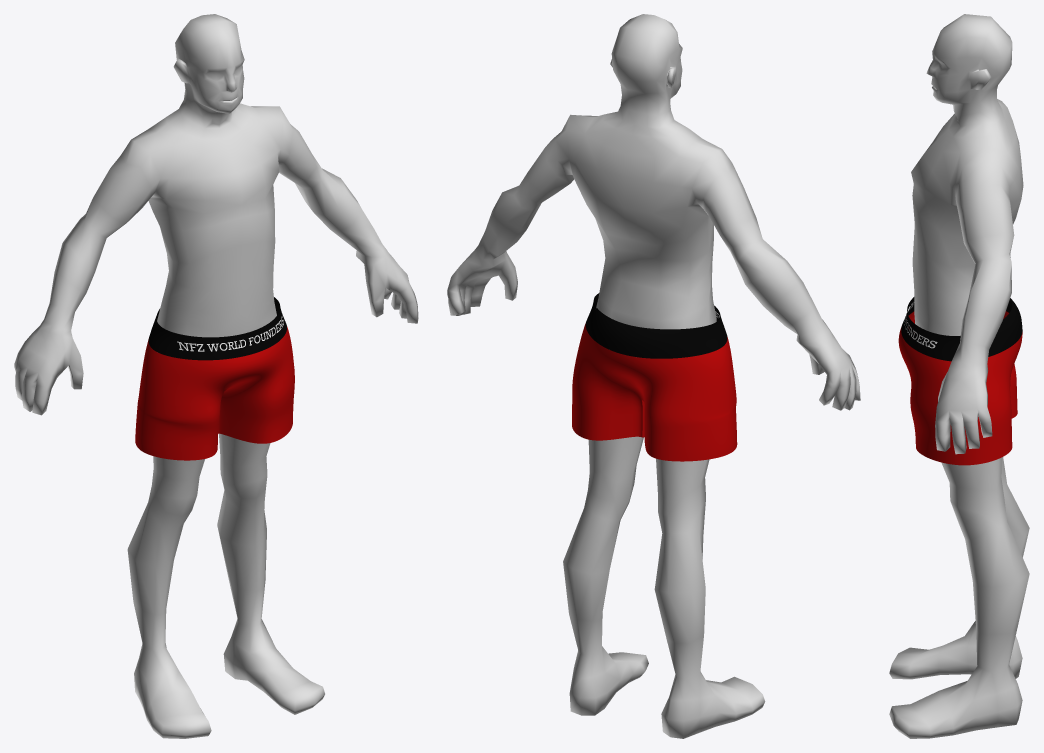
The model's file is defaultAvatar-NfzFirstEditionFoundersUndies.glb.
The picture shows the model from 3 angles, left to right: view 1: azimuth 30°, elevation 25°; view 2: azimuth 150°, elevation 25°; view 3: azimuth 270°, elevation 25°; orthographic projection. The views are drawn at different scales.
Parts seen in each view (by area): view 1: Low_Poly_Characte_000, object 1, object 2; view 2: Low_Poly_Characte_000, object 1, object 2; view 3: Low_Poly_Characte_000, object 1, object 2.
Boxes of the visible parts, x1=… form: Low_Poly_Characte_000: x1=14, y1=14, x2=418, y2=738; object 1: x1=135, y1=326, x2=294, y2=460; object 2: x1=148, y1=297, x2=286, y2=360; Low_Poly_Characte_000: x1=447, y1=14, x2=860, y2=738; object 1: x1=572, y1=323, x2=737, y2=461; object 2: x1=585, y1=293, x2=727, y2=358; Low_Poly_Characte_000: x1=889, y1=14, x2=1029, y2=738; object 1: x1=898, y1=311, x2=1022, y2=465; object 2: x1=901, y1=297, x2=1022, y2=361.
Size of the model in its own units: 4.38 by 7.29 by 1.36.
